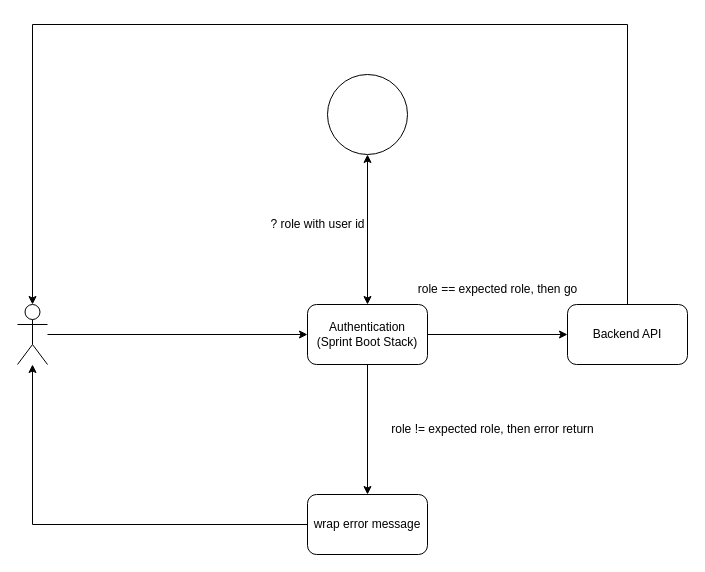
Some shapes in this 705 by 572 pixel diagram are drawn without their labels. The shapes that lost their labels are listed below. From the top down, each one's centre as x and y in pixels, then its label:
the point at 367,114: LDAP Server
the point at 32,334: User
